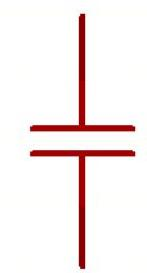Capacitor: (20, 91, 129, 190)
